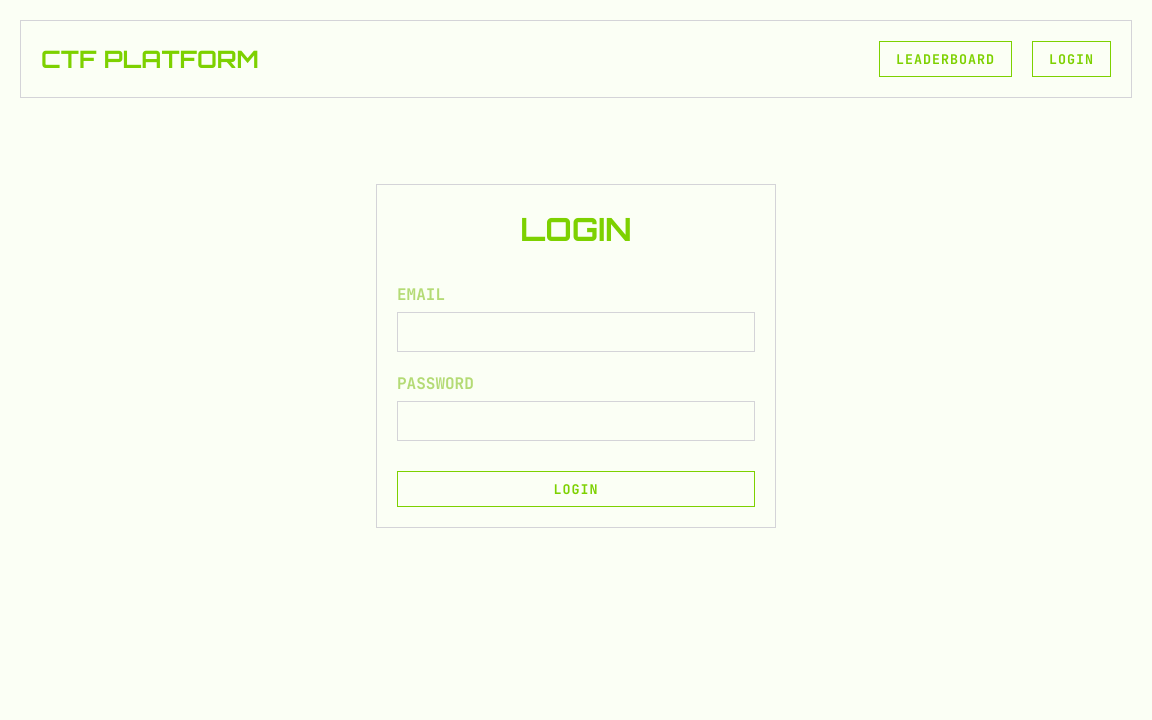
Test: Login.vue › displays error message if login fails
Type "user@ctf.com" into the field.
click(576, 332); type("user@ctf.com")  # box [397,312,755,352]
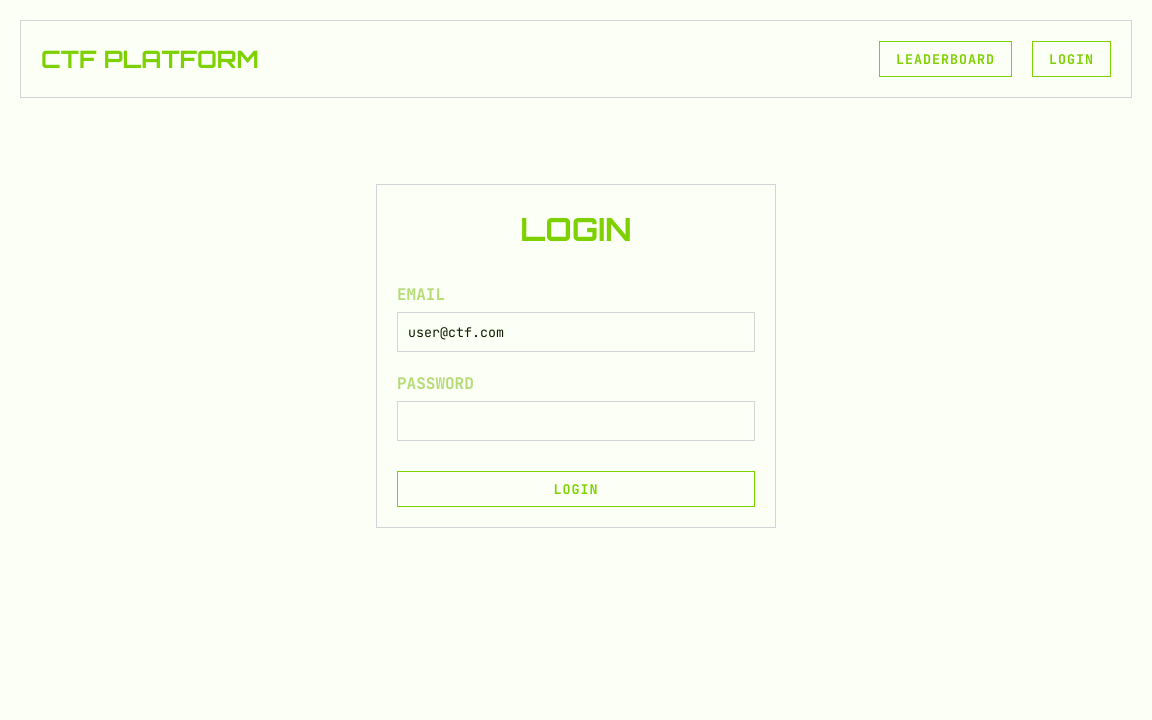
Type "wrong" into the password field.
click(576, 421); type("wrong")  # box [397,401,755,441]
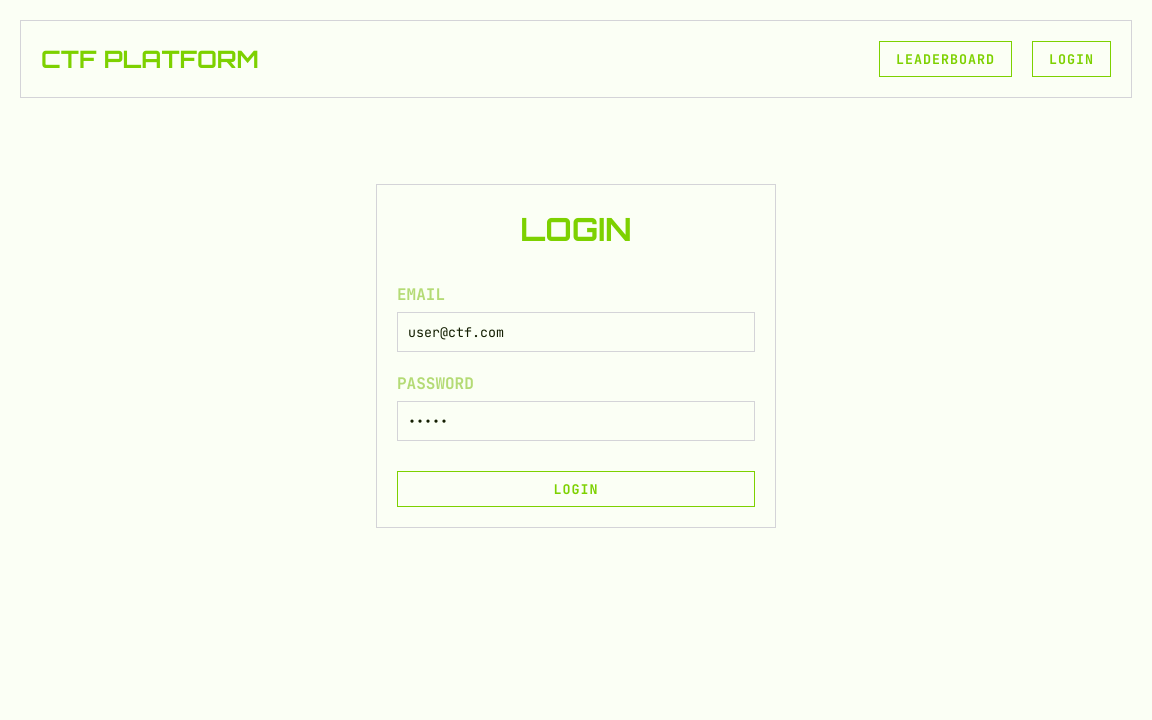
Submit the form, box [397,283,755,507]
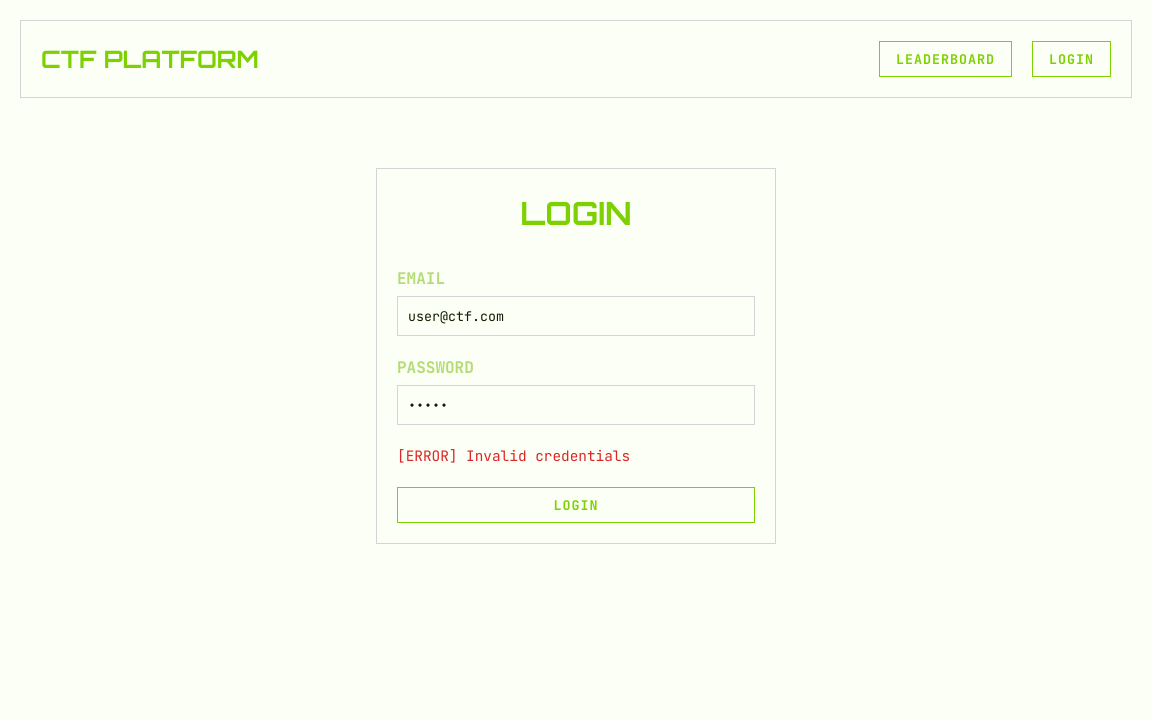
Result: the text "Invalid credentials" is shown at [397,446,630,465]
